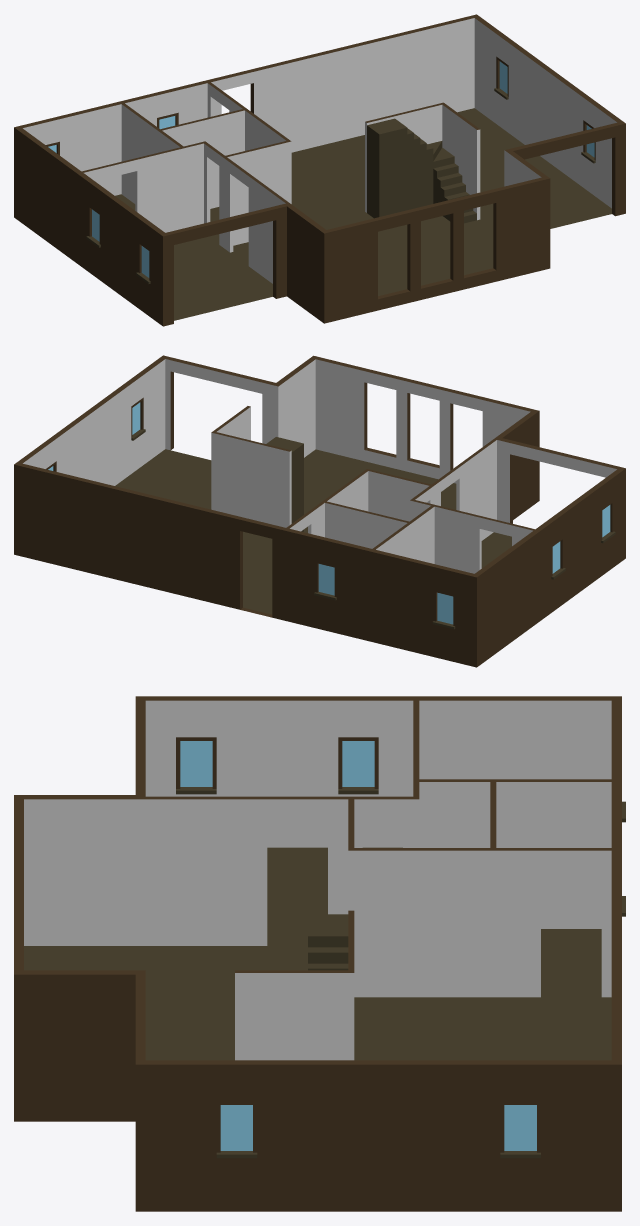
The model's file is first_floor.glb.
3 views of the same model, one above another, from view 1: azimuth 30°, elevation 25°; view 2: azimuth 150°, elevation 25°; view 3: azimuth 270°, elevation 25° (orthographic). The views are drawn at different scales.
Visible parts, largest first — view 1: Walls.001, Floor.001, Stairs, Window.001, Window.005, Window.002; view 2: Walls.001, Floor.001, Stairs, Window.003, Window.004, Window.001, Window.002, Window.006; view 3: Walls.001, Floor.001, Stairs, Window.006, Window.001, Window.002, Window.005.
Boxes of the visible parts, box(x1,y1,x2,y2) form: Walls.001: box(14, 14, 625, 326); Floor.001: box(115, 108, 611, 320); Stairs: box(365, 102, 480, 223); Window.001: box(136, 241, 150, 284); Window.005: box(494, 56, 508, 99); Window.002: box(86, 205, 100, 247); Walls.001: box(14, 355, 625, 667); Floor.001: box(115, 449, 511, 614); Stairs: box(211, 406, 303, 531); Window.003: box(432, 589, 455, 629); Window.004: box(314, 560, 336, 600); Window.001: box(601, 500, 615, 543); Window.002: box(551, 536, 565, 579); Window.006: box(131, 397, 145, 440); Walls.001: box(14, 696, 621, 1211); Floor.001: box(24, 847, 611, 1060); Stairs: box(235, 910, 354, 1060); Window.006: box(216, 1101, 257, 1158); Window.001: box(176, 737, 216, 794); Window.002: box(338, 737, 378, 794); Window.005: box(500, 1101, 540, 1158).
Bounding box in the file's own units: 43.4 × 8 × 30.2.
4 materials, 4 textured.
